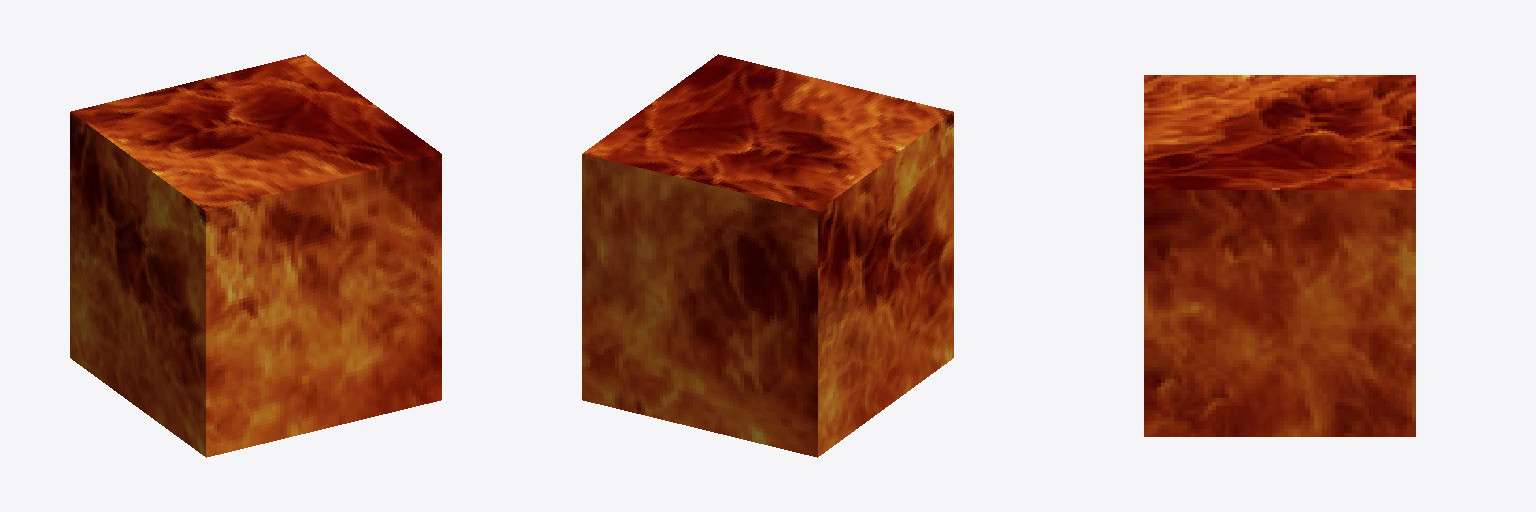
3 views of the same model, side by side, from view 1: azimuth 30°, elevation 25°; view 2: azimuth 150°, elevation 25°; view 3: azimuth 270°, elevation 25° (orthographic).
Visible parts, largest first — view 1: Cube; view 2: Cube; view 3: Cube.
Boxes of the visible parts, x1,y1,x2,y2 form: Cube: [70, 54, 441, 457]; Cube: [582, 54, 953, 457]; Cube: [1144, 75, 1415, 436].
Size of the model in its own units: 1 by 1 by 1.
1 materials, 1 textured.